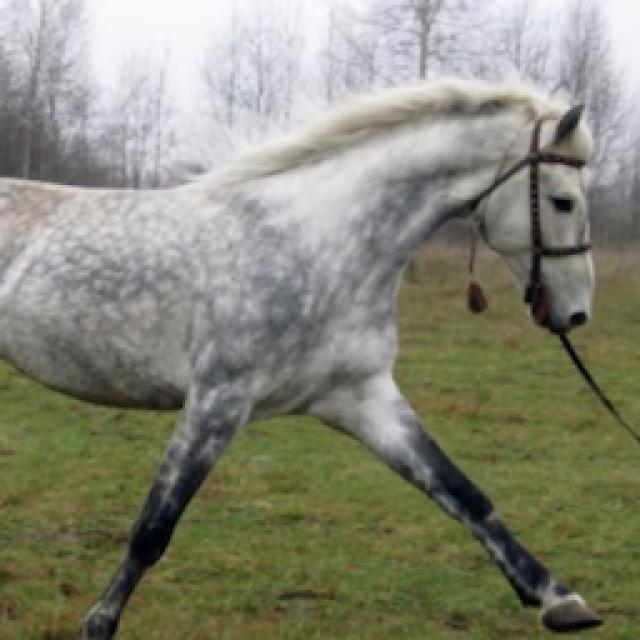Horse: (0, 70, 612, 637)
